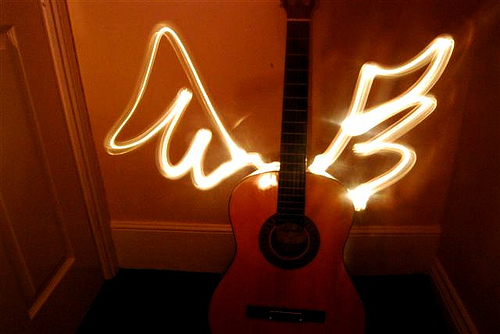guitar: (206, 1, 363, 334)
